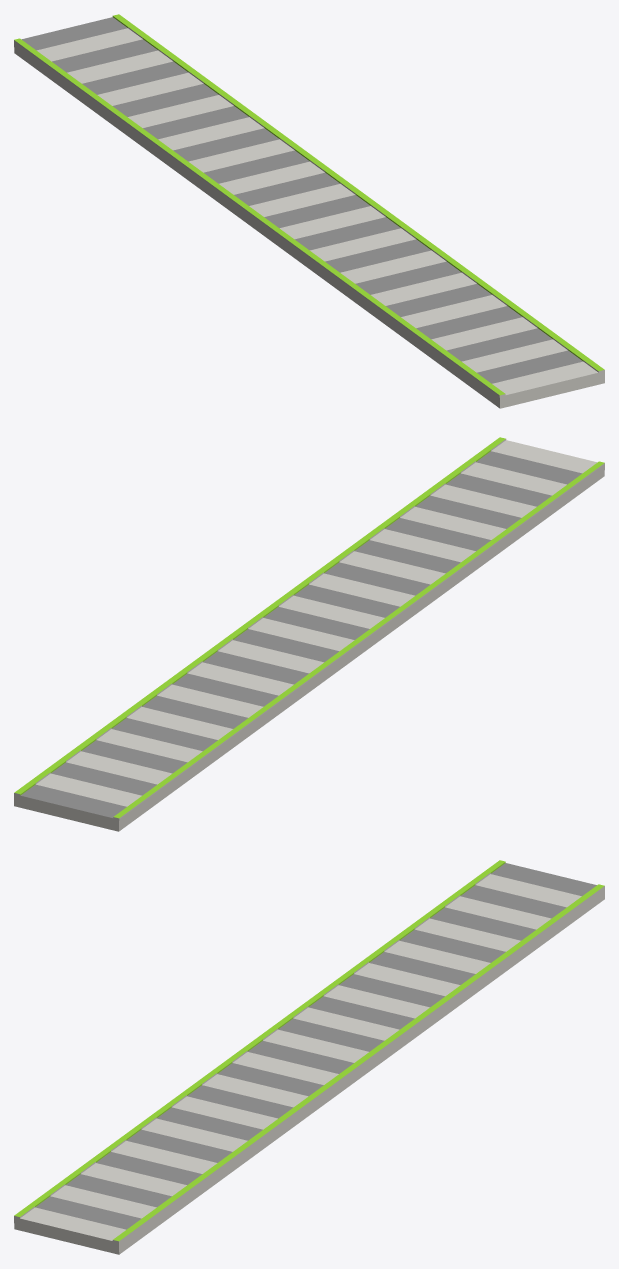
The model's file is road.fbx.
3 views of the same model, one above another, from view 1: azimuth 30°, elevation 25°; view 2: azimuth 150°, elevation 25°; view 3: azimuth 330°, elevation 25° (orthographic).
Parts seen in each view (by area): view 1: Cube; view 2: Cube; view 3: Cube.
Part boxes in pixels (<box>): Cube: <box>14,14,604,408</box>; Cube: <box>14,437,604,831</box>; Cube: <box>14,860,604,1254</box>.
Bounding box in the file's own units: 675 × 82.3 × 5402.
